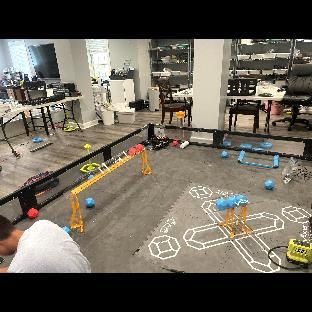Goal: (62, 143, 148, 199)
Loader: (175, 110, 186, 146)
Low_goal: (215, 210, 265, 255)
Med_goal: (201, 191, 268, 216)
Parking - B: (237, 150, 280, 169)
Robot: (141, 134, 172, 151)
V5_BLUE: (83, 196, 96, 208), (265, 179, 275, 191), (62, 224, 71, 236), (220, 150, 229, 159)
V5_RED: (27, 207, 39, 219), (173, 140, 179, 148)
blueingoal: (213, 198, 230, 211), (226, 195, 239, 209), (236, 194, 248, 206)
redingoal: (127, 147, 138, 156), (135, 142, 144, 151)
